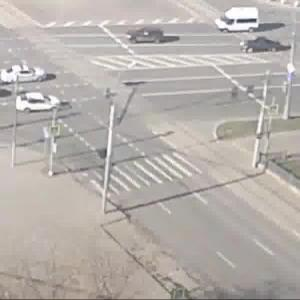car: (215, 10, 266, 35), (13, 93, 66, 112), (126, 28, 174, 48), (233, 40, 299, 54), (1, 68, 52, 84)
